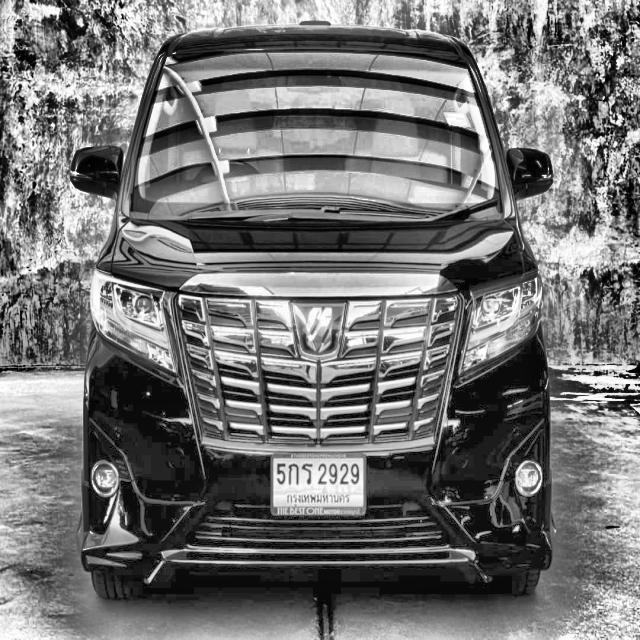license-plate: (269, 451, 366, 520)
